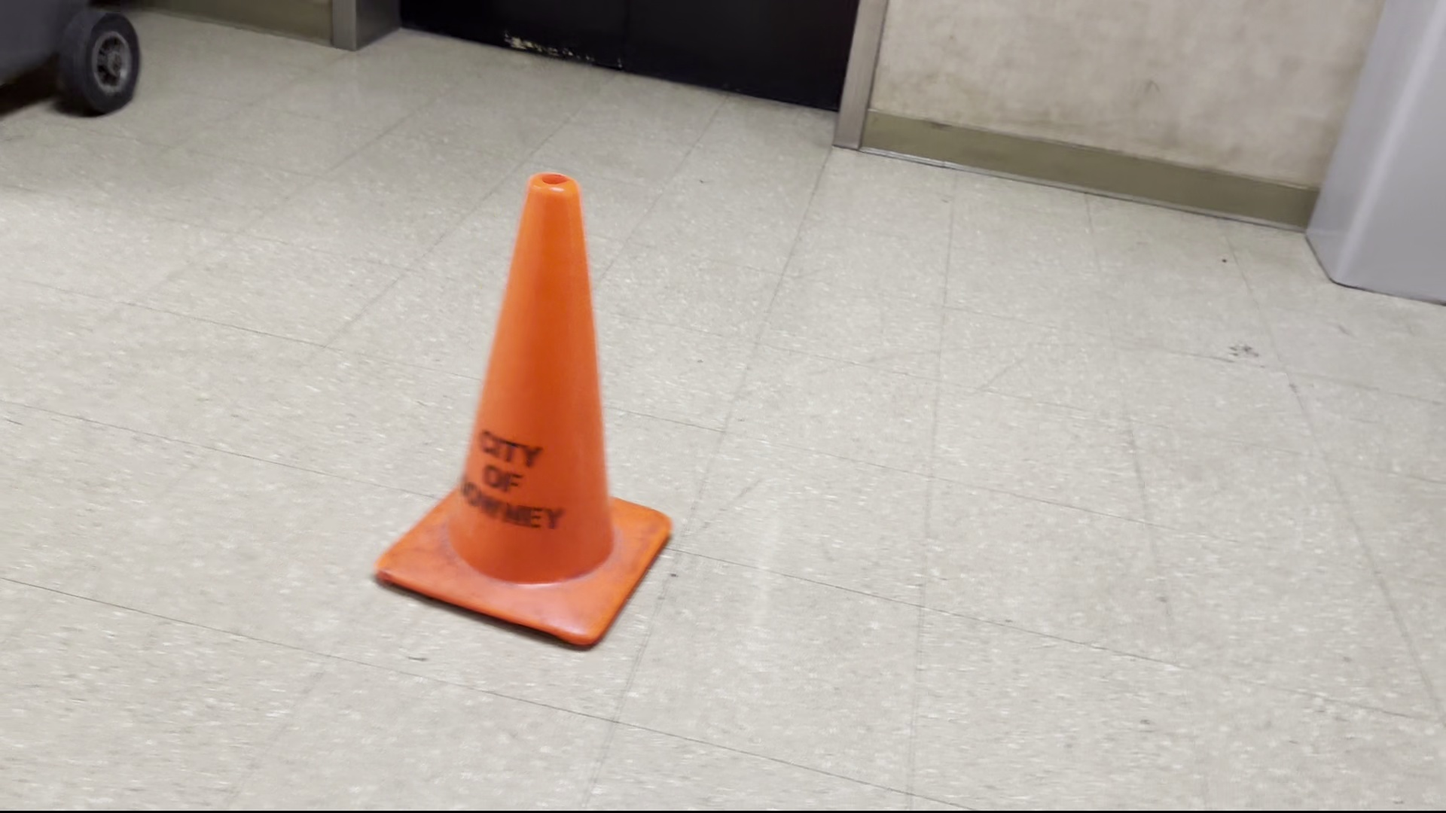traffic_cone: (373, 171, 674, 650)
